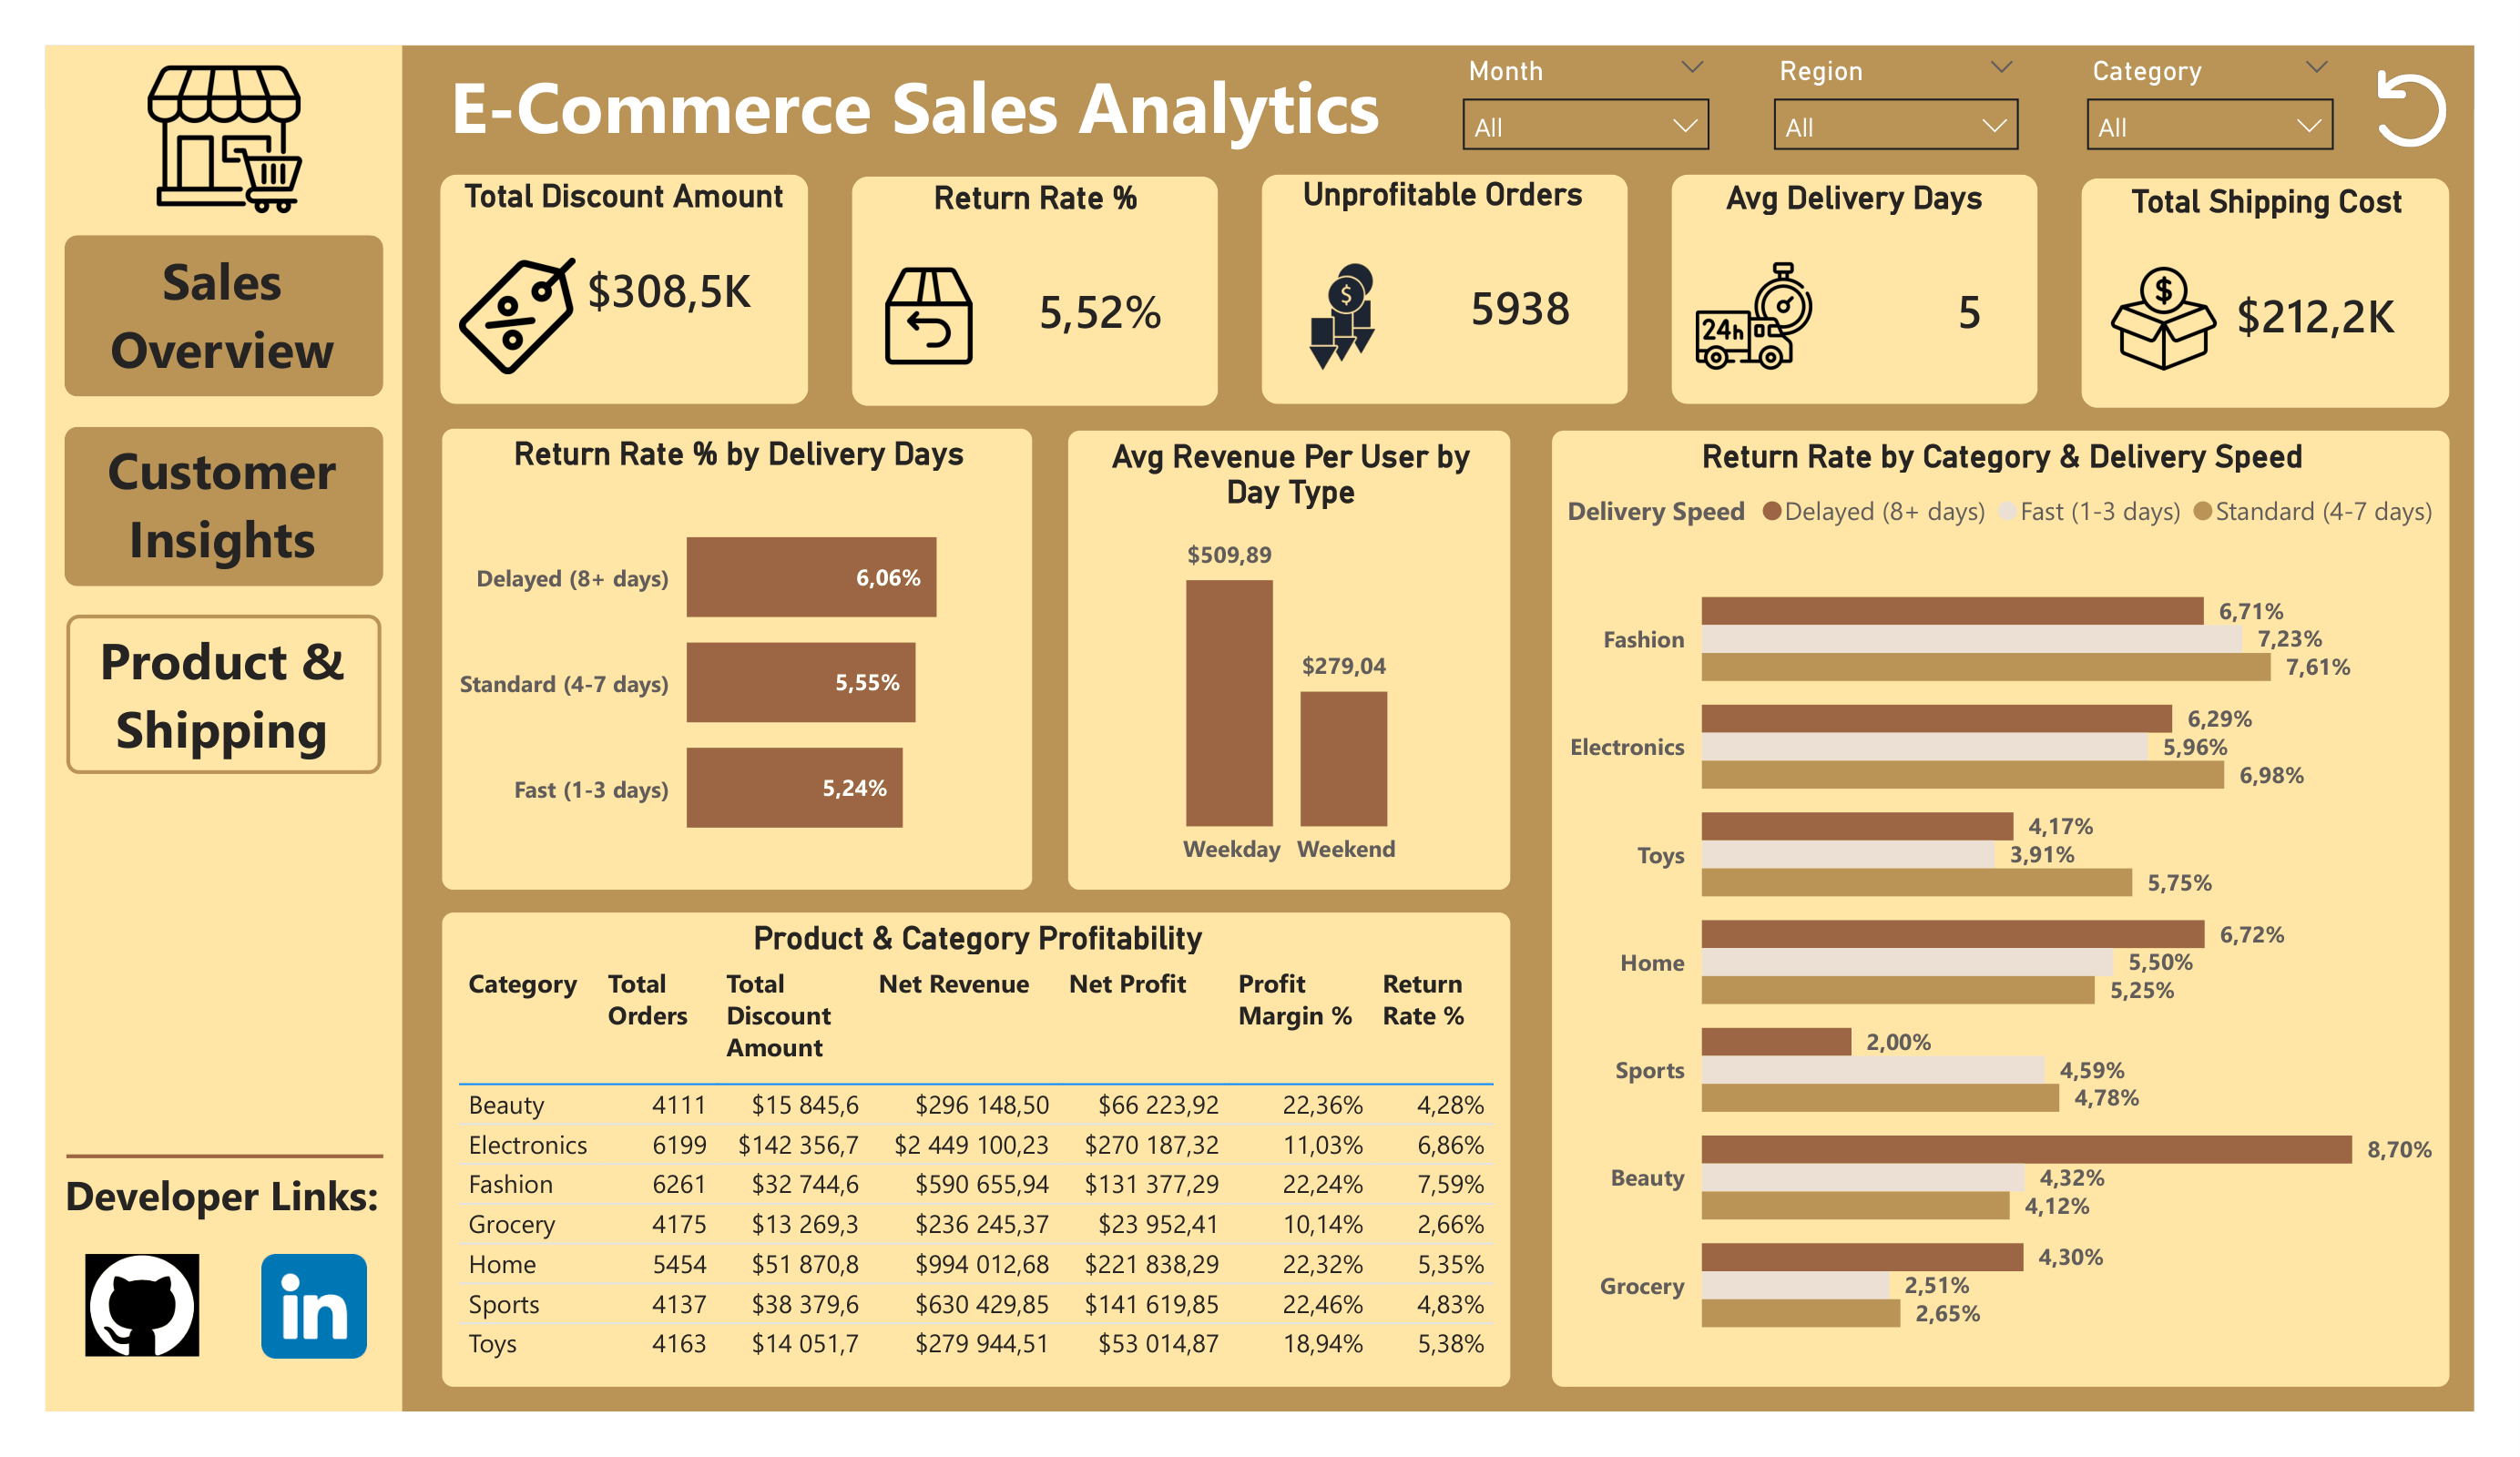

What the dashboard file says about the page in this screenshot:
{"tool":"powerbi","page":{"name":"Product & Shipping","canvas":[1280,720],"ordinal":2},"visuals":[{"type":"tableEx","title":"Product & Category Profitability","fields":{"Values":["dim_product.category","_Measures.Total Orders","_Measures.Total Discount Amount","_Measures.Net Revenue","_Measures.Net Profit","_Measures.Profit Margin %","_Measures.Return Rate %"]},"box":[207.8,455.5,565.5,252.5],"z":0},{"type":"clusteredBarChart","title":"Return Rate % by Delivery Days","fields":{"Category":["fact_sales.delivery_speed"],"Y":["_Measures.Return Rate %"]},"box":[207.8,200.6,313,245.3],"z":1000},{"type":"clusteredBarChart","title":"Return Rate by Category & Delivery Speed","fields":{"Category":["dim_product.category"],"Series":["fact_sales.delivery_speed"],"Y":["_Measures.Return Rate %"]},"box":[792.7,201.8,474.9,506.3],"z":2000},{"type":"shape","box":[0,0,188,720],"z":3000},{"type":"slicer","fields":{"Values":["dim_date.month_name"]},"box":[737.2,0,149.8,69.6],"z":4000},{"type":"slicer","fields":{"Values":["dim_customer.region"]},"box":[900.7,0,149.8,69.6],"z":5000},{"type":"slicer","fields":{"Values":["dim_product.category"]},"box":[1066.3,0,149.8,69.6],"z":6000},{"type":"image","box":[47.5,9.5,93.9,80.2],"z":7000},{"type":"shape","box":[10,100,168,84.6],"z":8000},{"type":"shape","box":[10,200.7,167.7,84],"z":9000},{"type":"shape","box":[10.5,299.5,166.6,84.4],"z":10000},{"type":"textbox","box":[9.5,100.2,167.7,84.4],"z":11000},{"type":"textbox","box":[9.5,200.4,167.7,84.4],"z":12000},{"type":"textbox","box":[9.5,299.5,167.7,84.4],"z":13000},{"type":"image","box":[20.8,636.8,60.4,54.4],"z":14000},{"type":"image","box":[110.7,637,61.2,54.8],"z":15000},{"type":"shape","box":[208.2,68.1,193.3,120.8],"z":16000},{"type":"cardVisual","title":"Total Discount Amount","fields":{"Data":["_Measures.Total Discount Amount"]},"box":[208.2,69.3,193.3,119.6],"z":17000},{"type":"image","box":[216.2,111.8,64.3,61.2],"z":18000},{"type":"shape","box":[424.5,69.3,193.3,120.8],"z":19000},{"type":"cardVisual","title":"Return Rate %","fields":{"Data":["_Measures.Return Rate %"]},"box":[425.7,70.5,192.1,119.6],"z":20000},{"type":"image","box":[433.5,111.8,63.3,61.2],"z":21000},{"type":"shape","box":[640.8,68.1,193.3,120.8],"z":22000},{"type":"cardVisual","title":"Unprofitable Orders","fields":{"Data":["_Measures.Unprofitable Orders"]},"box":[639.6,68.1,193.3,119.6],"z":23000},{"type":"image","box":[649.7,111.8,64.3,61.2],"z":24000},{"type":"shape","box":[857.1,68.1,193.3,120.8],"z":25000},{"type":"cardVisual","title":"Avg Delivery Days","fields":{"Data":["_Measures.Avg Delivery Days"]},"box":[857.1,70.5,193.3,119.6],"z":26000},{"type":"image","box":[869.1,111.8,63.3,61.2],"z":27000},{"type":"shape","box":[1073.4,70.5,193.3,120.8],"z":28000},{"type":"cardVisual","title":"Total Shipping Cost","fields":{"Data":["_Measures.Total Shipping Cost"]},"box":[1074.6,71.7,192.1,119.6],"z":29000},{"type":"image","box":[1084.2,111.8,64.3,61.2],"z":30000},{"type":"image","box":[1216.1,9.5,60.1,50.6],"z":31000},{"type":"shape","box":[10.5,100.2,167.7,84.4],"z":32000},{"type":"shape","box":[9.5,200.4,167.7,84.4],"z":33000},{"type":"shape","box":[10.5,299.5,167.7,84.4],"z":34000},{"type":"clusteredColumnChart","title":"Avg Revenue Per User by Day Type","fields":{"Category":["dim_date.weekend_type"],"Y":["_Measures.ARPU"]},"box":[537.7,201.8,235.6,244.1],"z":35000},{"type":"textbox","box":[207.8,1.2,529.2,64],"z":36000},{"type":"textbox","box":[4.8,586,177.6,43.5],"z":37000},{"type":"shape","box":[10.9,496.6,166.7,177.6],"z":38000}]}

Visuals, with their boxes on the page's 1280x720 design canvas (x1, y1, x2, y2). These are canvas units, not pixel positions in the 2520x1457 screenshot, which may show the page scaled, cropped or inside an application window:
"Product & Category Profitability" tableEx: Rect(208, 456, 773, 708)
"Return Rate % by Delivery Days" clusteredBarChart: Rect(208, 201, 521, 446)
"Return Rate by Category & Delivery Speed" clusteredBarChart: Rect(793, 202, 1268, 708)
shape: Rect(0, 0, 188, 720)
slicer - dim_date.month_name: Rect(737, 0, 887, 70)
slicer - dim_customer.region: Rect(901, 0, 1050, 70)
slicer - dim_product.category: Rect(1066, 0, 1216, 70)
image: Rect(48, 10, 141, 90)
shape: Rect(10, 100, 178, 185)
shape: Rect(10, 201, 178, 285)
shape: Rect(10, 300, 177, 384)
textbox: Rect(10, 100, 177, 185)
textbox: Rect(10, 200, 177, 285)
textbox: Rect(10, 300, 177, 384)
image: Rect(21, 637, 81, 691)
image: Rect(111, 637, 172, 692)
shape: Rect(208, 68, 402, 189)
"Total Discount Amount" cardVisual: Rect(208, 69, 402, 189)
image: Rect(216, 112, 280, 173)
shape: Rect(424, 69, 618, 190)
"Return Rate %" cardVisual: Rect(426, 70, 618, 190)
image: Rect(434, 112, 497, 173)
shape: Rect(641, 68, 834, 189)
"Unprofitable Orders" cardVisual: Rect(640, 68, 833, 188)
image: Rect(650, 112, 714, 173)
shape: Rect(857, 68, 1050, 189)
"Avg Delivery Days" cardVisual: Rect(857, 70, 1050, 190)
image: Rect(869, 112, 932, 173)
shape: Rect(1073, 70, 1267, 191)
"Total Shipping Cost" cardVisual: Rect(1075, 72, 1267, 191)
image: Rect(1084, 112, 1148, 173)
image: Rect(1216, 10, 1276, 60)
shape: Rect(10, 100, 178, 185)
shape: Rect(10, 200, 177, 285)
shape: Rect(10, 300, 178, 384)
"Avg Revenue Per User by Day Type" clusteredColumnChart: Rect(538, 202, 773, 446)
textbox: Rect(208, 1, 737, 65)
textbox: Rect(5, 586, 182, 630)
shape: Rect(11, 497, 178, 674)
